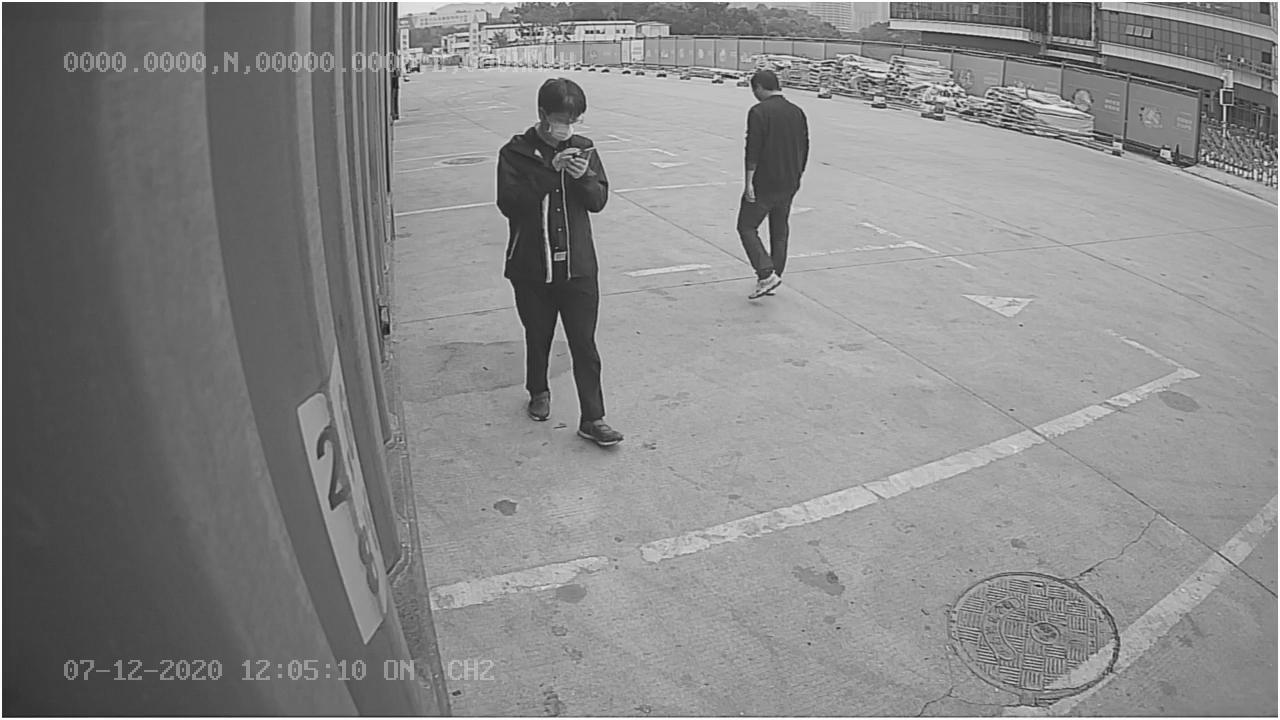person: (491, 83, 626, 445), (736, 69, 813, 306)
